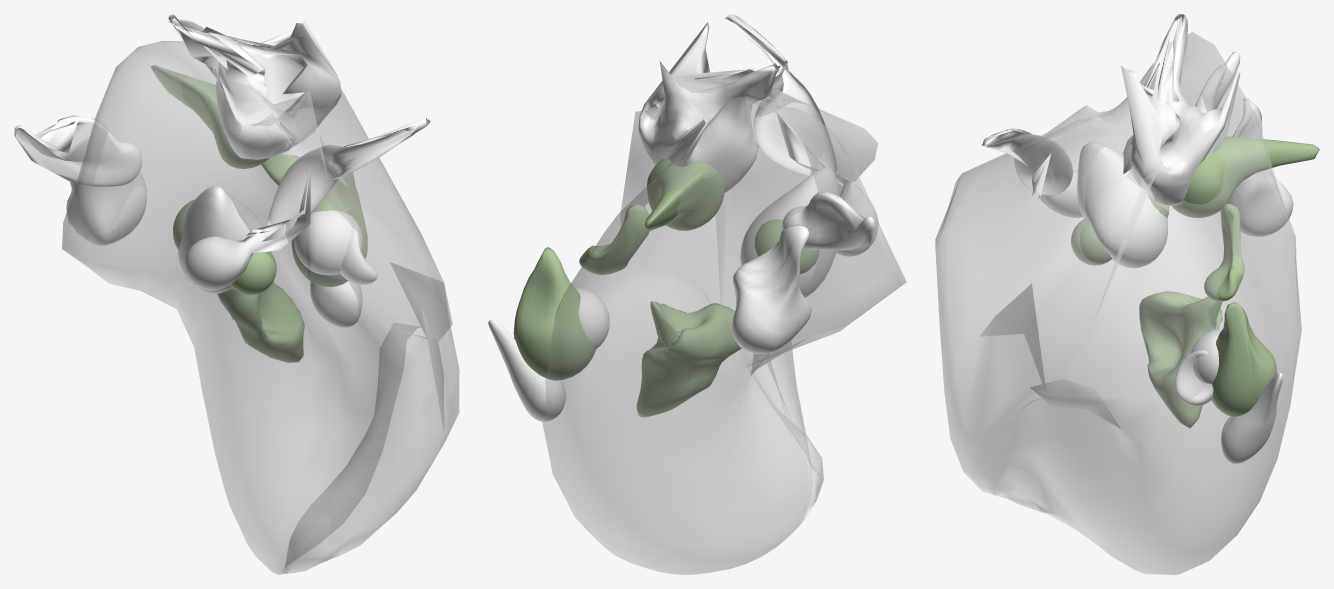
Rendered from three-blender.glb.
3 renders of one model, left to right at view 1: azimuth 30°, elevation 25°; view 2: azimuth 150°, elevation 25°; view 3: azimuth 270°, elevation 25°, orthographic. The views are drawn at different scales.
Parts seen in each view (by area): view 1: Sphere.012; view 2: Sphere.012; view 3: Sphere.012.
Part boxes in pixels (x1,y1,x2,y2): Sphere.012: (14, 14, 459, 574); Sphere.012: (488, 14, 906, 574); Sphere.012: (935, 14, 1319, 574).
Size of the model in its own units: 7.89 by 11.3 by 7.76.
